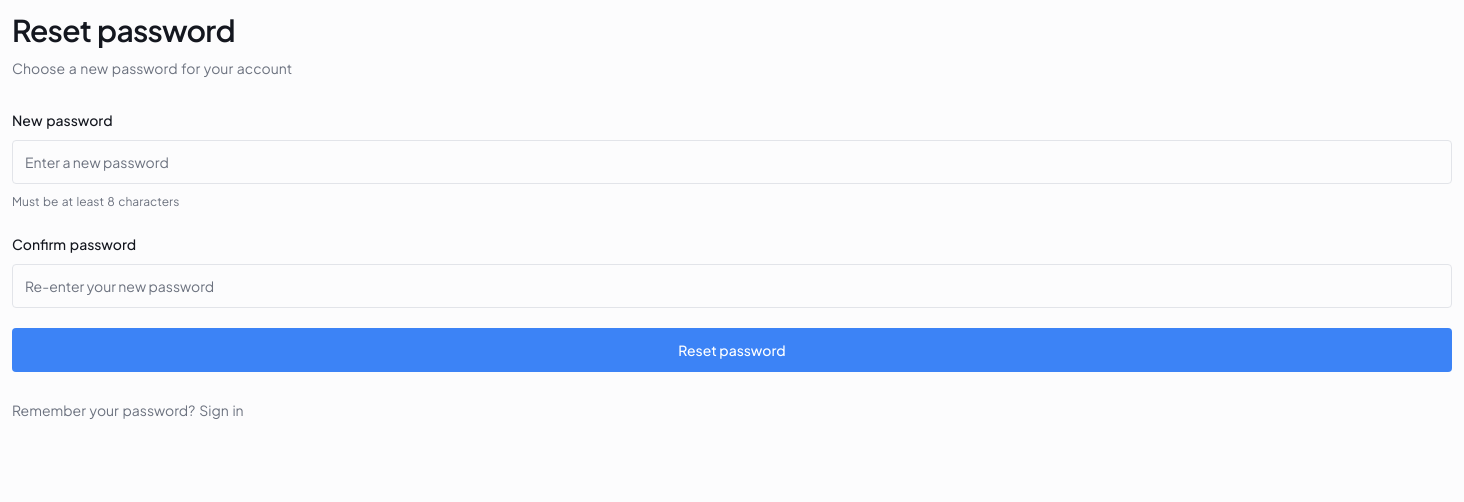
Test case: ResetPasswordForm › shows a localized reset error when the endpoint rejects the token
Step 1. Type "newpass1234" into the password field labelled "New password" → (732, 162), box [12,140,1452,184]
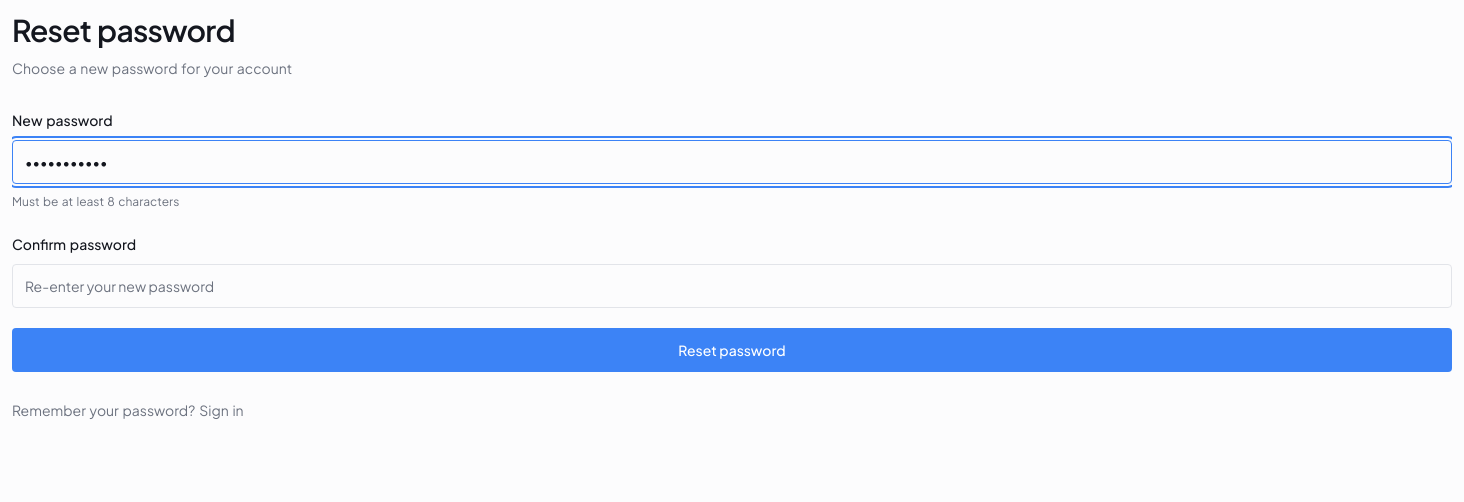
Step 2. Type "newpass1234" into the password field labelled "Confirm password" → (732, 286), box [12,264,1452,308]
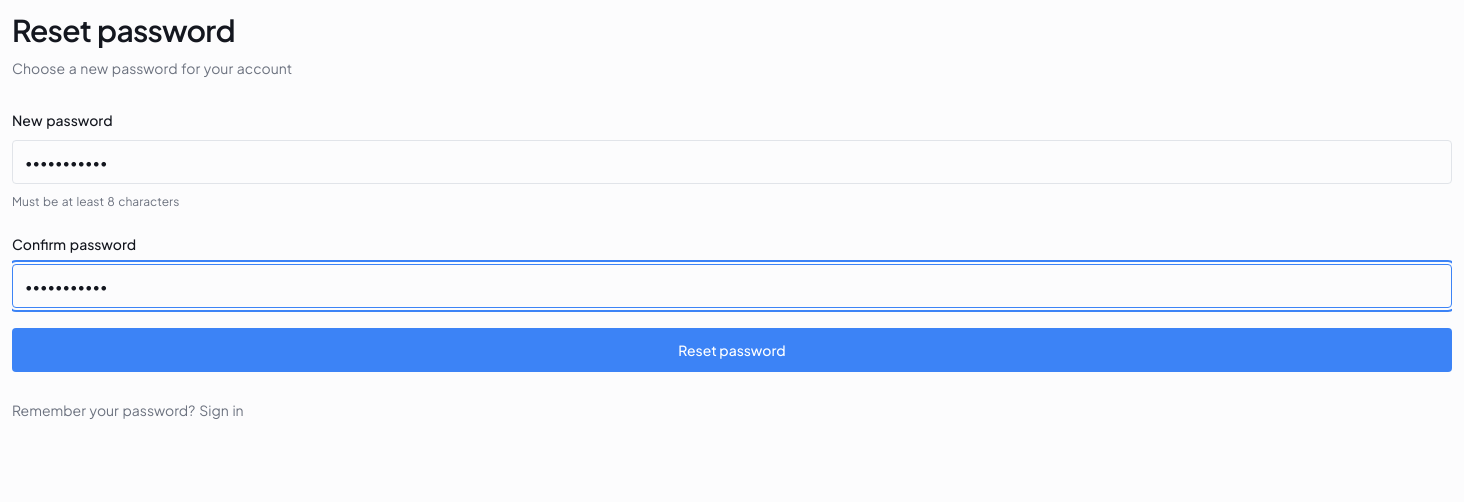
Step 3. Click the button "Reset password" → (732, 350), box [12,328,1452,372]
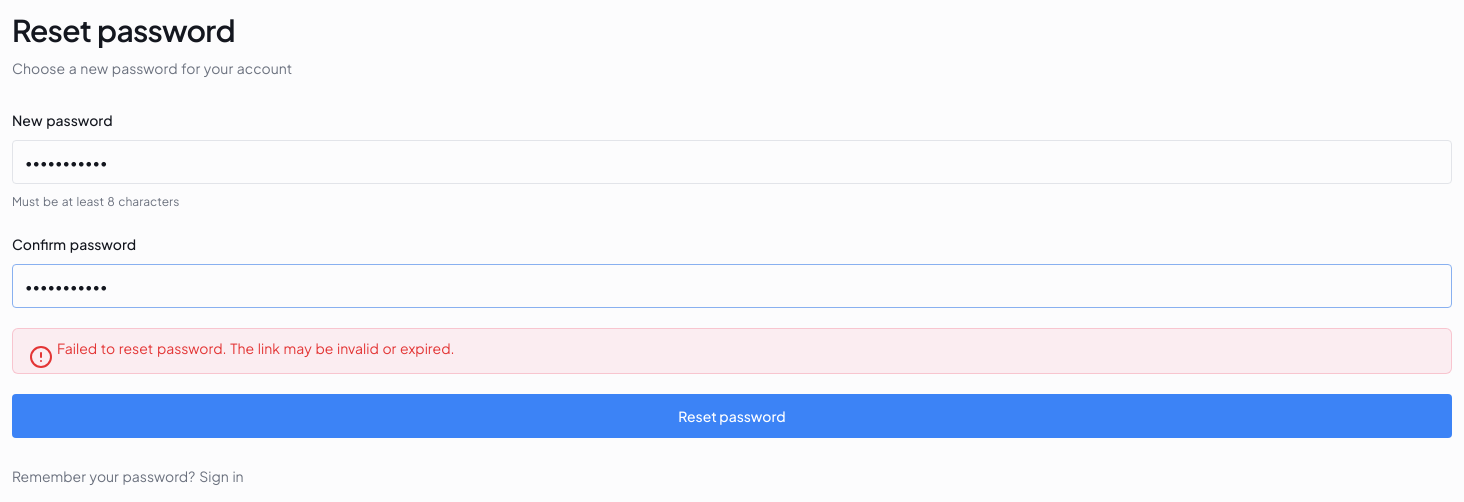
Check: the message shows "Failed to reset password", box [57,339,454,357]
